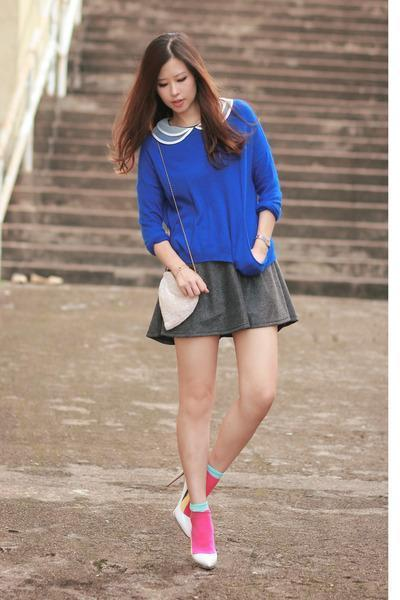bag: (159, 282, 197, 323)
jacket: (137, 97, 281, 270)
shoe: (173, 471, 223, 565)
skirt: (146, 259, 305, 344)
